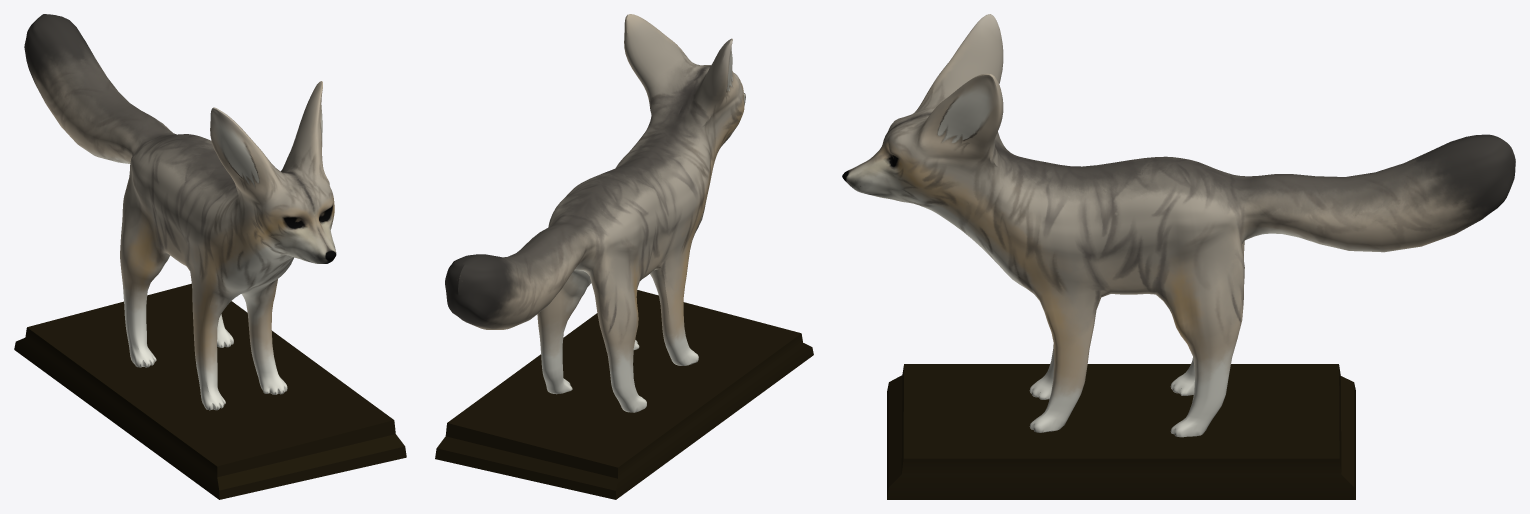
File: Taxidermy_Fox.fbx
The picture shows the model from 3 angles, left to right: view 1: azimuth 30°, elevation 25°; view 2: azimuth 150°, elevation 25°; view 3: azimuth 270°, elevation 25°; orthographic projection. The views are drawn at different scales.
Visible parts, largest first — view 1: foxy gurl, Cube; view 2: foxy gurl, Cube; view 3: foxy gurl, Cube.
Boxes of the visible parts, left/top/right/bottom form: foxy gurl: left=24, top=14, right=336, bottom=410; Cube: left=14, top=283, right=406, bottom=499; foxy gurl: left=445, top=14, right=745, bottom=412; Cube: left=435, top=290, right=813, bottom=499; foxy gurl: left=842, top=14, right=1515, bottom=437; Cube: left=887, top=364, right=1355, bottom=499.
Size of the model in its own units: 59.12 by 106 by 161.
